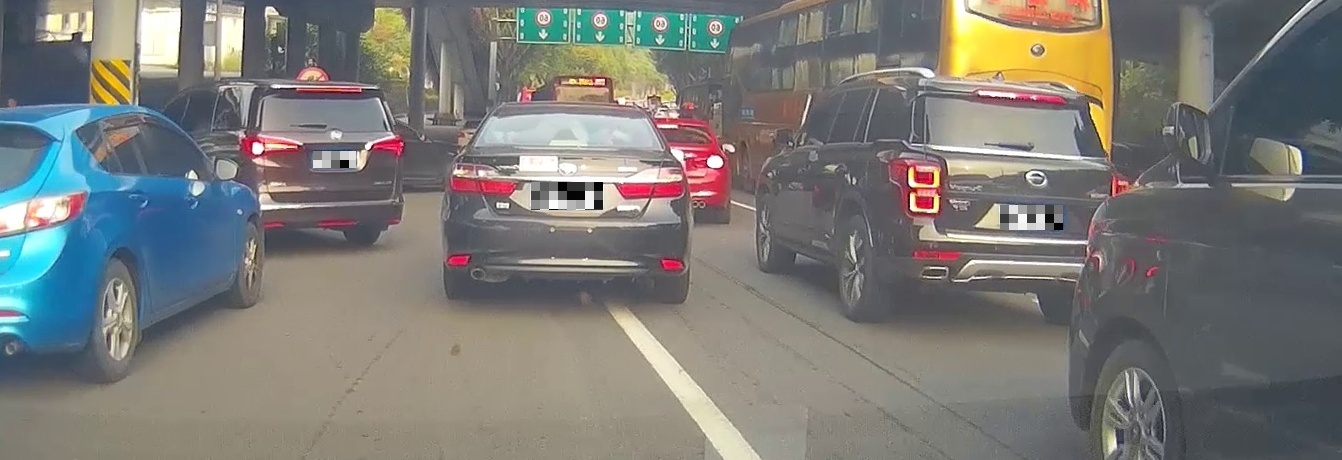L_light: (890, 158, 943, 217), (449, 163, 518, 195), (241, 135, 303, 159)
R_light: (614, 165, 685, 198), (365, 134, 403, 154), (1111, 173, 1130, 195)
T_light: (977, 89, 1066, 104), (296, 86, 361, 93), (550, 140, 585, 146)
day-brake: (886, 76, 1132, 326), (239, 81, 405, 245)
day-no: (439, 101, 694, 304)
plate_1: (313, 151, 356, 168)
plate_2: (531, 182, 603, 210)
plate_3: (1000, 205, 1063, 230)
